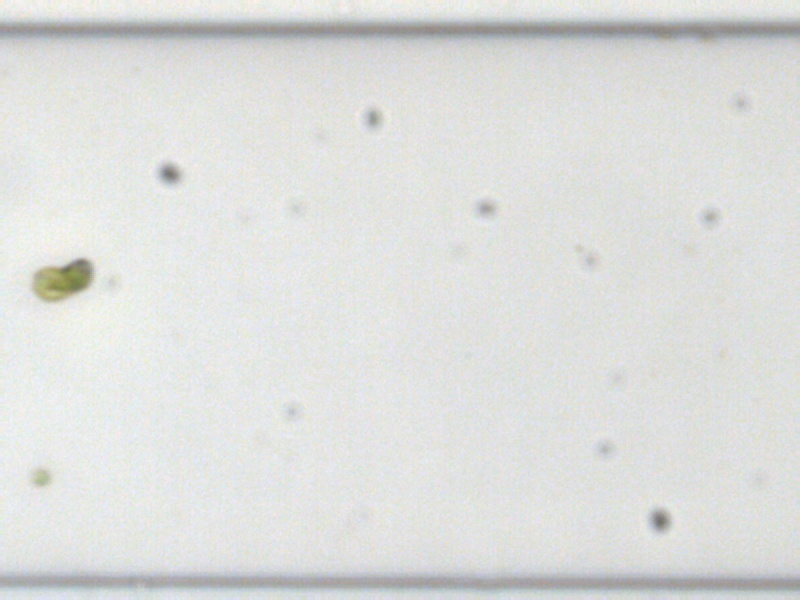Chlorella: (27, 465, 50, 487)
Platymonas: (27, 257, 96, 303)
